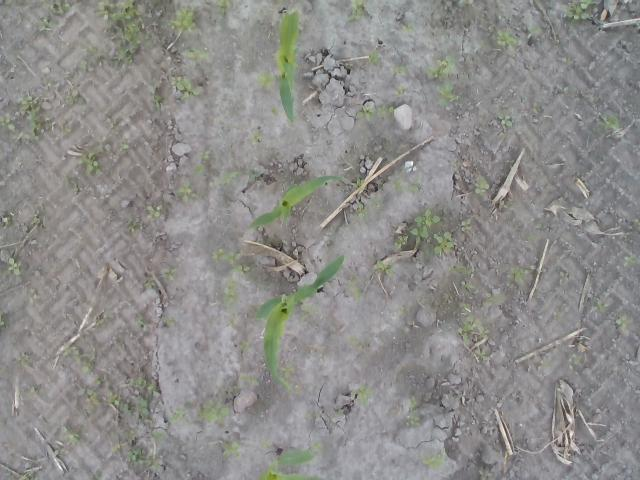Maize: (254, 254, 344, 392), (242, 174, 342, 235), (274, 11, 302, 124), (258, 447, 322, 480)
Weeds: (94, 0, 160, 71), (410, 206, 455, 256), (427, 55, 460, 105), (198, 386, 240, 424), (105, 391, 154, 422), (16, 94, 42, 144), (212, 247, 252, 276), (61, 341, 95, 375), (80, 143, 110, 177), (456, 315, 488, 345), (168, 6, 200, 32), (418, 448, 452, 472), (224, 283, 242, 326), (128, 448, 160, 472), (111, 427, 138, 455), (166, 400, 194, 426), (170, 74, 200, 98), (562, 0, 592, 24), (128, 376, 156, 400), (392, 170, 421, 192), (356, 104, 394, 120), (79, 40, 98, 72), (76, 386, 100, 410), (342, 0, 368, 22), (506, 266, 529, 290), (352, 382, 372, 409), (496, 28, 520, 50), (404, 397, 421, 428), (347, 276, 367, 302), (176, 183, 197, 206), (192, 150, 210, 176), (598, 111, 621, 130), (148, 81, 162, 111), (254, 69, 274, 89), (566, 352, 586, 372), (221, 439, 242, 458), (298, 304, 320, 322), (64, 95, 87, 112), (51, 0, 72, 18), (347, 334, 368, 352), (62, 424, 80, 444), (219, 170, 240, 186), (280, 360, 298, 378), (38, 16, 57, 33), (92, 372, 111, 389), (14, 350, 33, 367), (473, 175, 490, 194), (187, 47, 210, 61), (214, 0, 234, 16), (7, 255, 22, 276), (160, 264, 178, 281), (616, 312, 633, 330), (374, 260, 392, 276), (46, 113, 64, 128), (486, 291, 504, 306), (448, 264, 472, 275), (496, 112, 512, 128), (0, 116, 17, 131), (391, 63, 408, 78), (367, 50, 384, 65), (152, 429, 170, 443), (26, 288, 40, 306), (1, 209, 15, 227), (394, 84, 409, 100), (353, 202, 368, 218), (239, 374, 260, 385), (392, 236, 408, 250), (64, 176, 78, 192), (478, 466, 494, 480), (146, 204, 160, 220), (126, 215, 138, 233), (136, 318, 148, 334), (162, 318, 178, 330), (593, 301, 610, 312), (237, 340, 250, 354), (353, 176, 366, 190), (446, 0, 466, 9), (366, 198, 384, 208), (460, 218, 472, 233), (398, 306, 411, 318), (247, 168, 260, 180), (623, 255, 636, 267), (527, 24, 538, 38), (558, 270, 568, 284), (632, 216, 640, 233), (478, 351, 490, 362), (23, 469, 34, 480), (250, 130, 260, 142), (94, 470, 106, 480), (102, 111, 112, 123), (260, 438, 272, 448), (402, 24, 414, 34), (461, 280, 473, 290), (32, 210, 40, 224), (496, 14, 510, 22), (562, 55, 572, 66), (542, 360, 554, 369), (0, 310, 6, 328), (144, 280, 156, 289), (442, 292, 453, 301), (532, 101, 540, 113), (334, 408, 344, 417), (118, 142, 128, 151), (102, 312, 113, 320), (270, 104, 278, 114), (64, 127, 72, 137), (502, 200, 512, 208), (312, 441, 320, 449), (223, 64, 231, 72), (535, 222, 544, 229), (462, 303, 472, 309), (47, 80, 53, 88)
